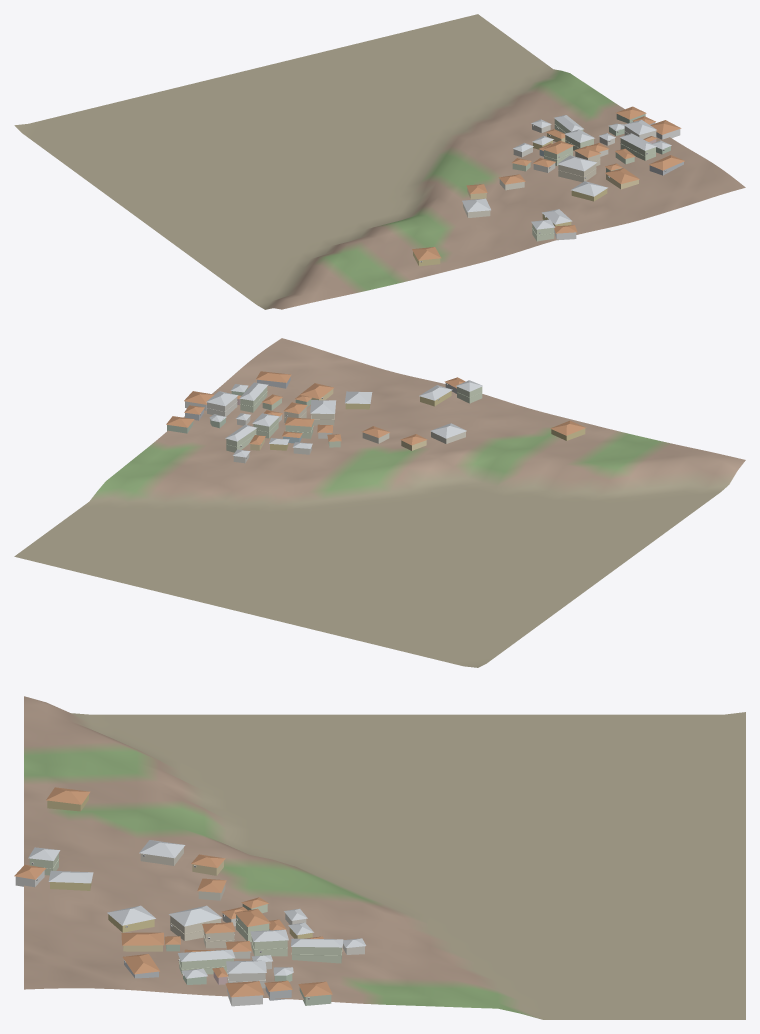
The picture shows the model from 3 angles, top to bottom: view 1: azimuth 30°, elevation 25°; view 2: azimuth 150°, elevation 25°; view 3: azimuth 270°, elevation 25°; orthographic projection. The views are drawn at different scales.
Parts seen in each view (by area): view 1: Terrain-col, Buildings-col; view 2: Terrain-col, Buildings-col; view 3: Terrain-col, Buildings-col.
Boxes of the visible parts, x1=… form: Terrain-col: x1=14, y1=14, x2=745, y2=309; Buildings-col: x1=412, y1=106, x2=684, y2=266; Terrain-col: x1=14, y1=338, x2=745, y2=667; Buildings-col: x1=166, y1=371, x2=586, y2=463; Terrain-col: x1=24, y1=696, x2=745, y2=1019; Buildings-col: x1=14, y1=787, x2=366, y2=1006.
Bounding box in the file's own units: 263 × 16.81 × 259.
